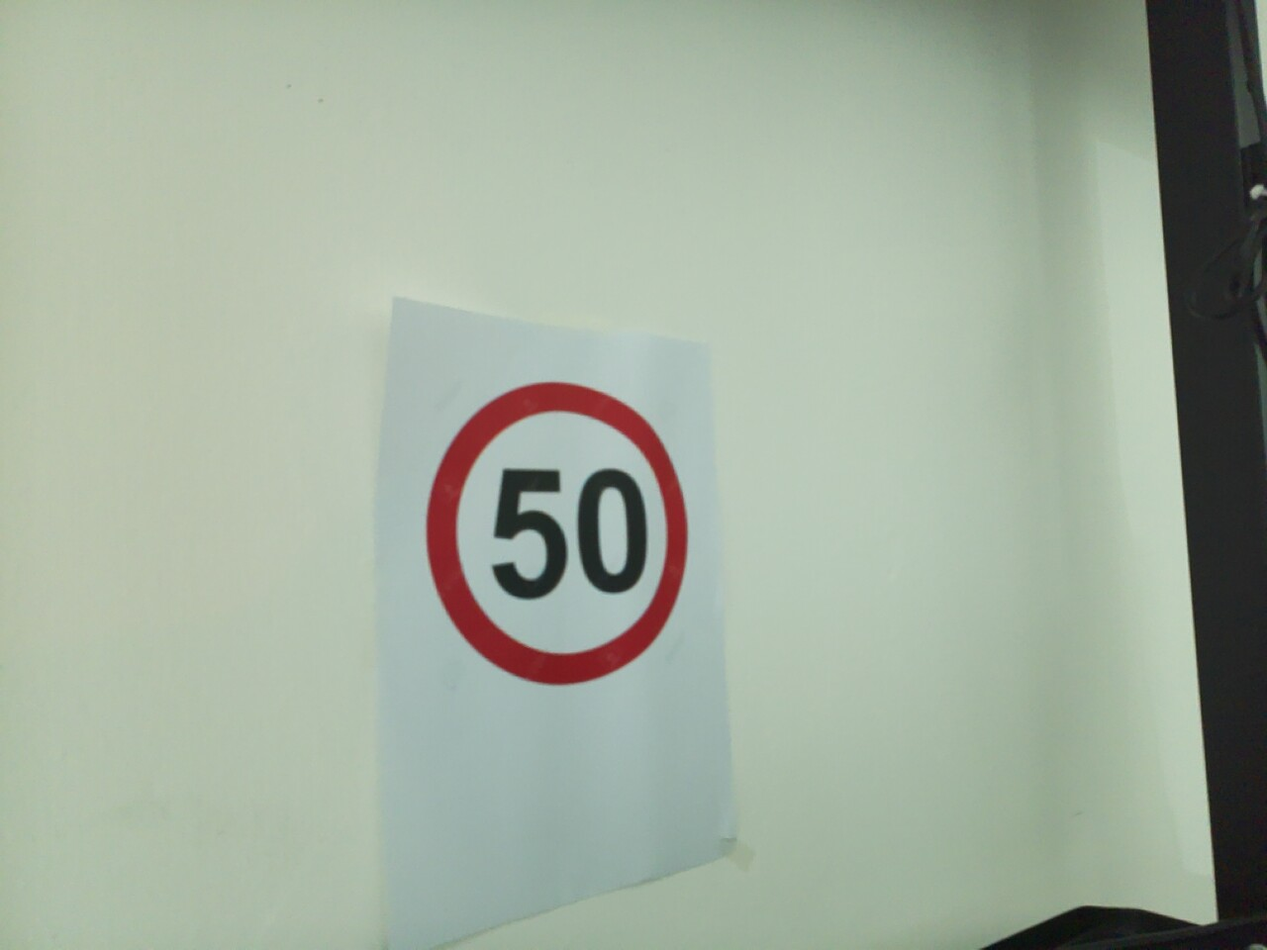speed_50: (417, 372, 697, 696)
